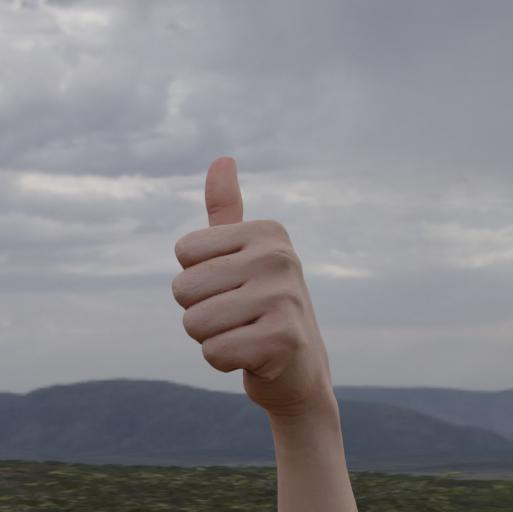thumbs-up: (161, 152, 329, 416)
